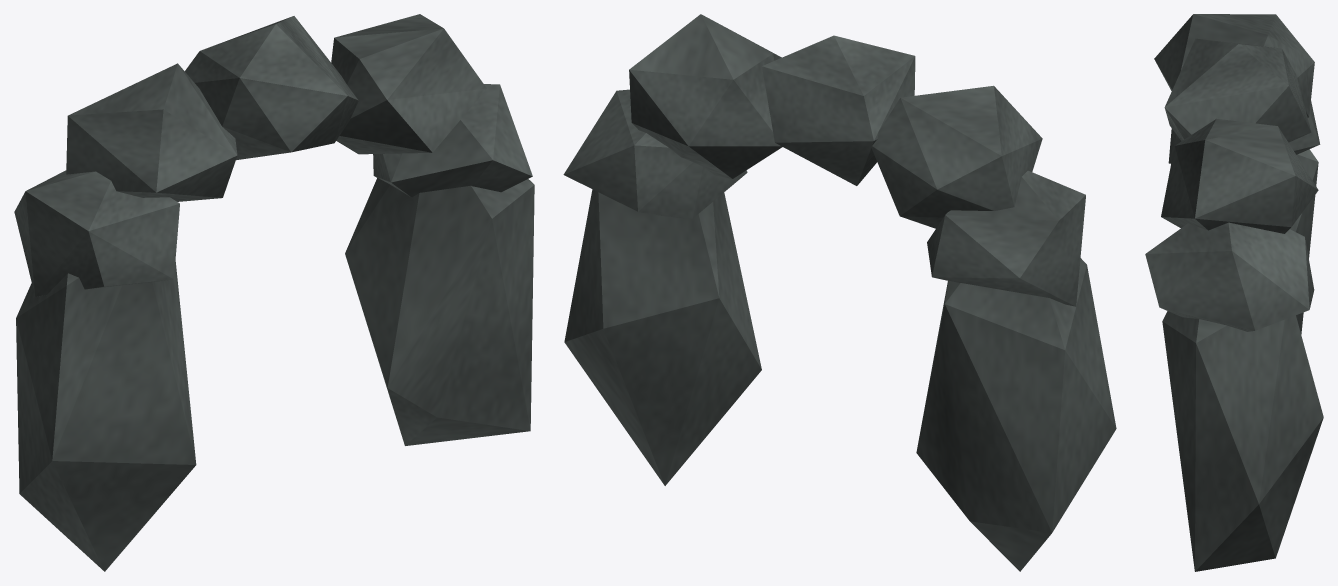
The model's file is rocks.sea_arch.lod2.glb.
3 views of the same model, side by side, from view 1: azimuth 30°, elevation 25°; view 2: azimuth 150°, elevation 25°; view 3: azimuth 270°, elevation 25° (orthographic). The views are drawn at different scales.
Visible parts, largest first — view 1: ArchPier, ArchPier.001, ArchCrown.003, ArchCrown.002, ArchCrown.004, ArchCrown.001, ArchCrown; view 2: ArchPier, ArchPier.001, ArchCrown.003, ArchCrown.001, ArchCrown.002, ArchCrown.004, ArchCrown; view 3: ArchPier.001, ArchCrown, ArchCrown.001, ArchCrown.002, ArchCrown.003, ArchPier, ArchCrown.004.
Boxes of the visible parts, x1,y1,x2,y2 form: ArchPier: (16,260,196,571); ArchPier.001: (345,178,534,445); ArchCrown.003: (66,63,237,201); ArchCrown.002: (185,16,358,160); ArchCrown.004: (14,170,179,296); ArchCrown.001: (331,14,486,154); ArchCrown: (373,84,532,197); ArchPier: (916,258,1116,571); ArchPier.001: (564,189,761,485); ArchCrown.003: (871,85,1042,228); ArchCrown.001: (629,14,782,178); ArchCrown.002: (762,35,915,185); ArchCrown.004: (927,170,1085,306); ArchCrown: (563,89,747,218); ArchPier.001: (1162,311,1323,571); ArchCrown: (1145,222,1314,331); ArchCrown.001: (1161,118,1318,233); ArchCrown.002: (1164,38,1311,142); ArchCrown.003: (1154,14,1314,117); ArchPier: (1290,149,1318,334); ArchCrown.004: (1168,101,1320,163).
Size of the model in its own units: 10.33 by 9.62 by 3.31.
1 material, 1 textured.
